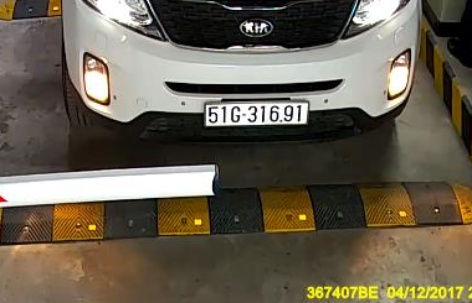plate: (202, 100, 306, 125)
